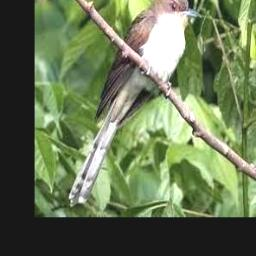Cuckoo: (68, 0, 201, 208)
